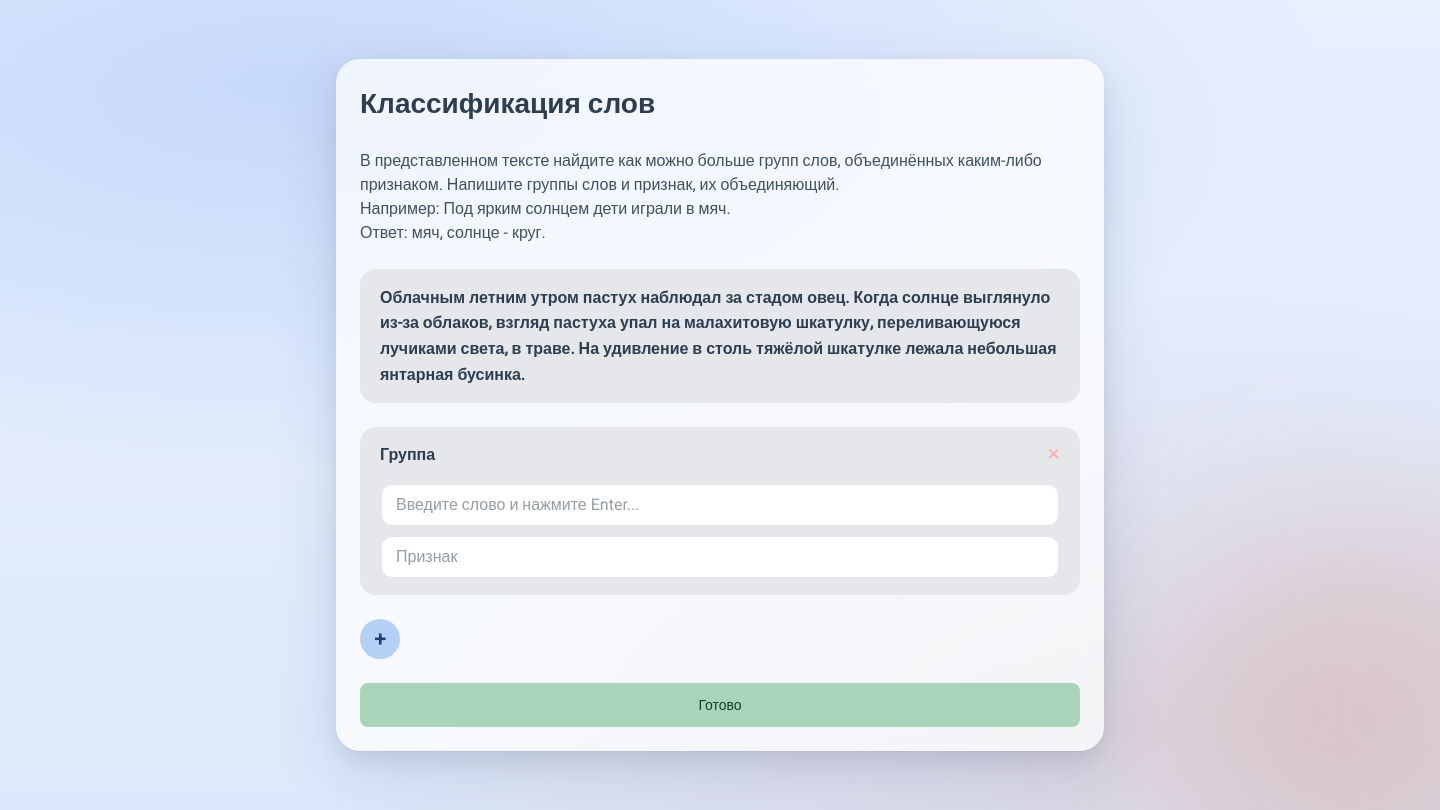
Test: /ai/classification — этап 1 (words) › ошибка POST этапа 1 (500) — инлайн-сообщение, этап сохранён
The image size is (1440, 810).
Type "шкатулка" into the field with test id "word-input" at (720, 505), box [380,483,1060,527]
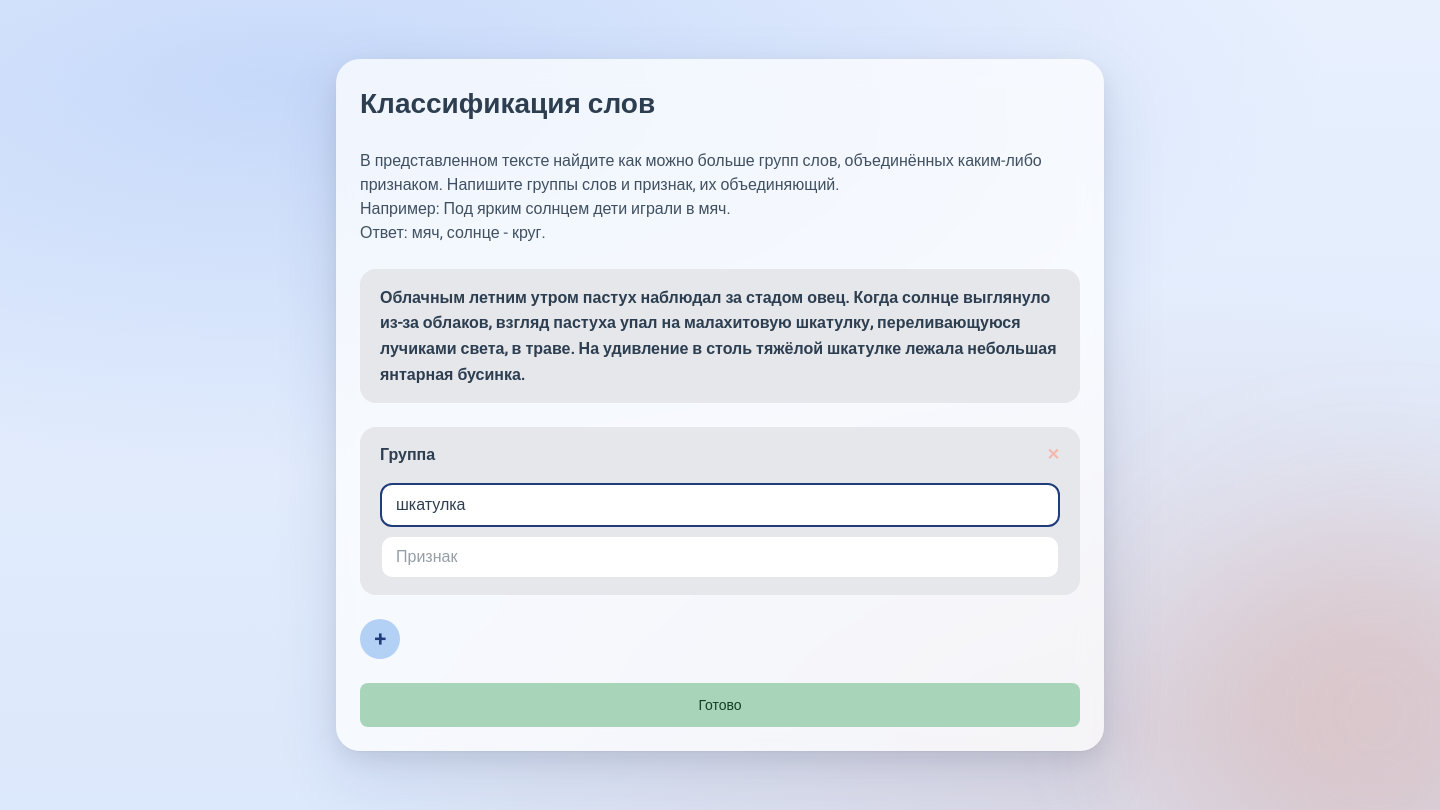
Press Enter
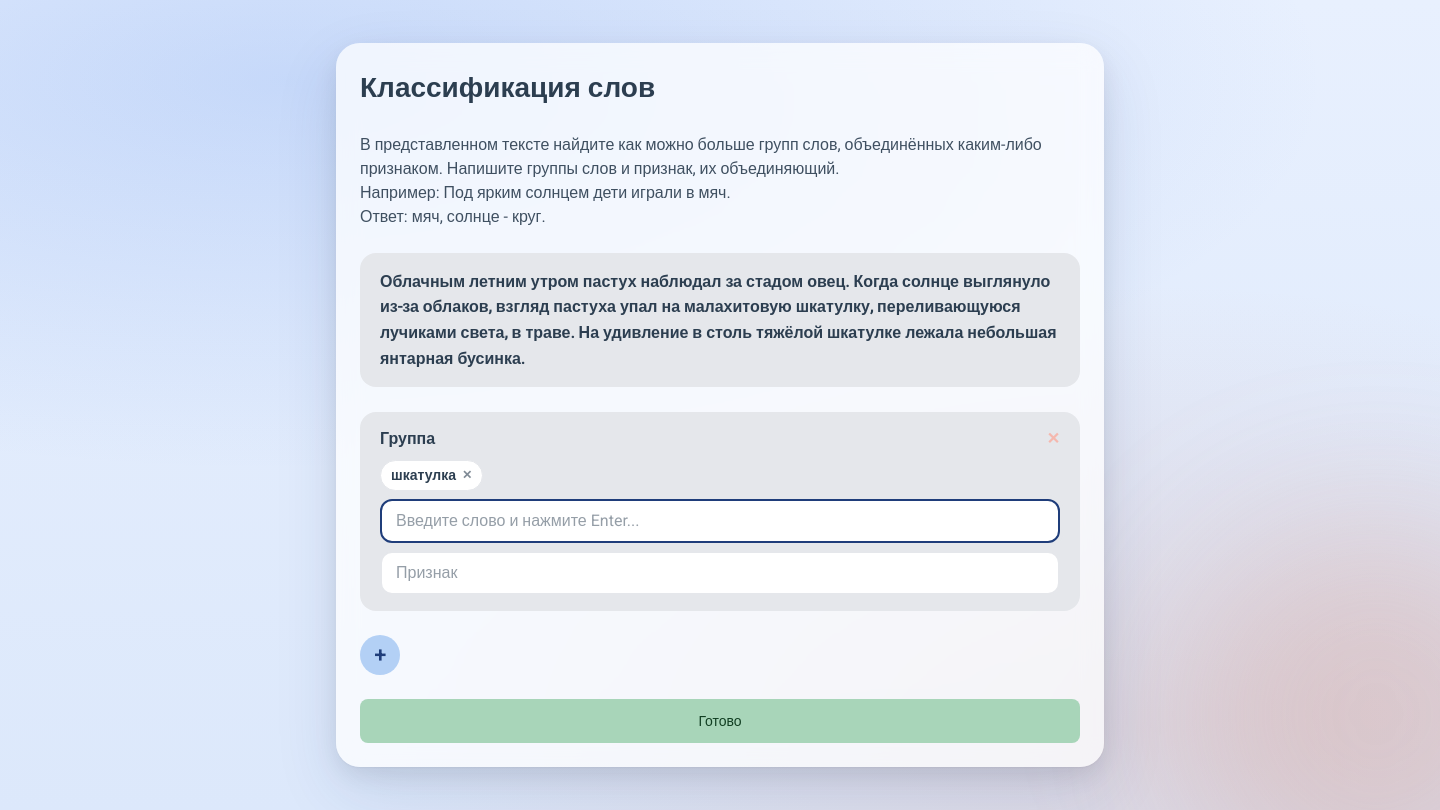
Click the button "Готово" at (720, 721), box [360,699,1080,743]
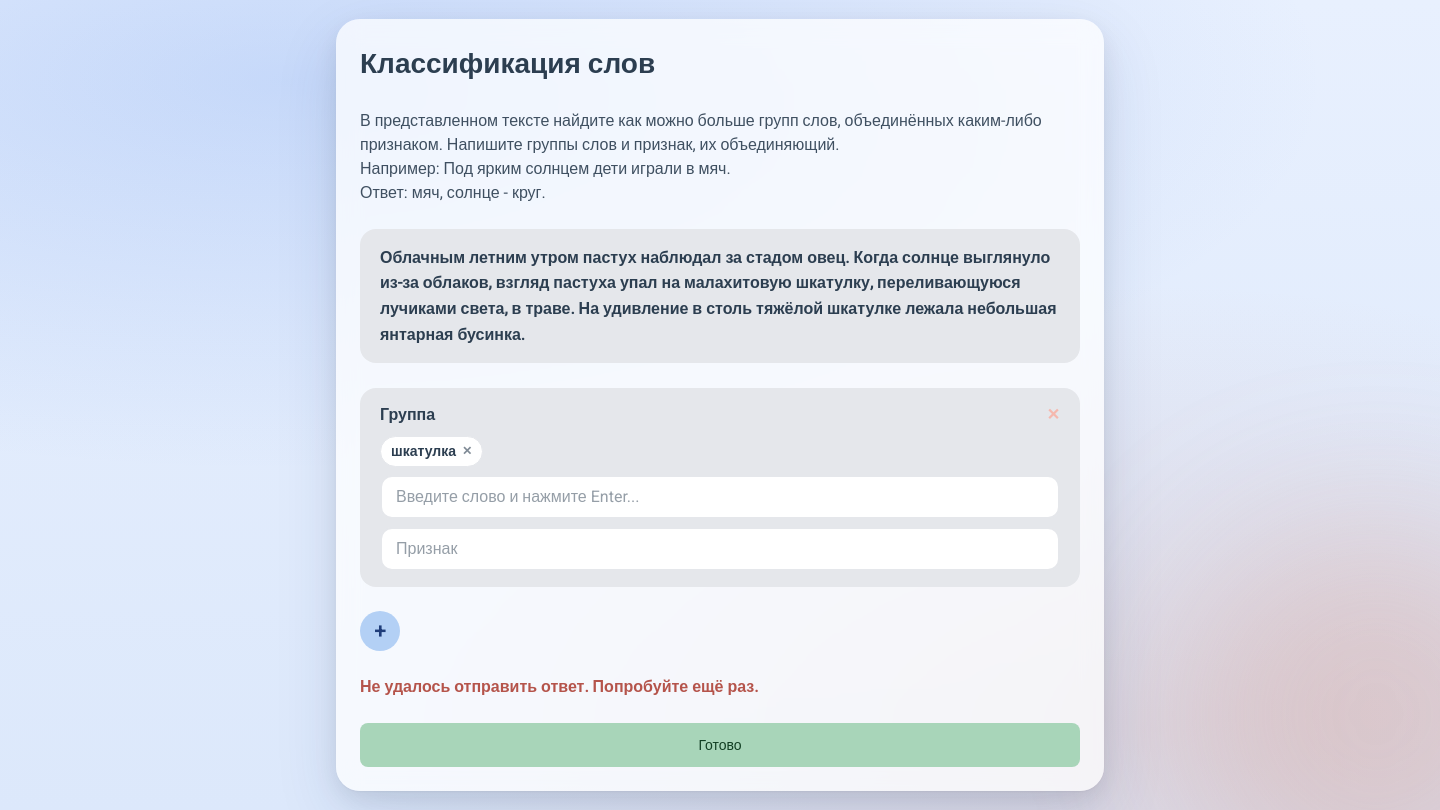
Expected: the text with test id "stimulus" is shown, [360,229,1080,364]
Now the text "шкатулка" is shown, box [391,443,456,459]
Now the message with test id "error" shows "Не удалось отправить ответ", box [360,677,758,696]
